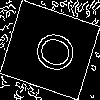O: (25, 25, 78, 77)
